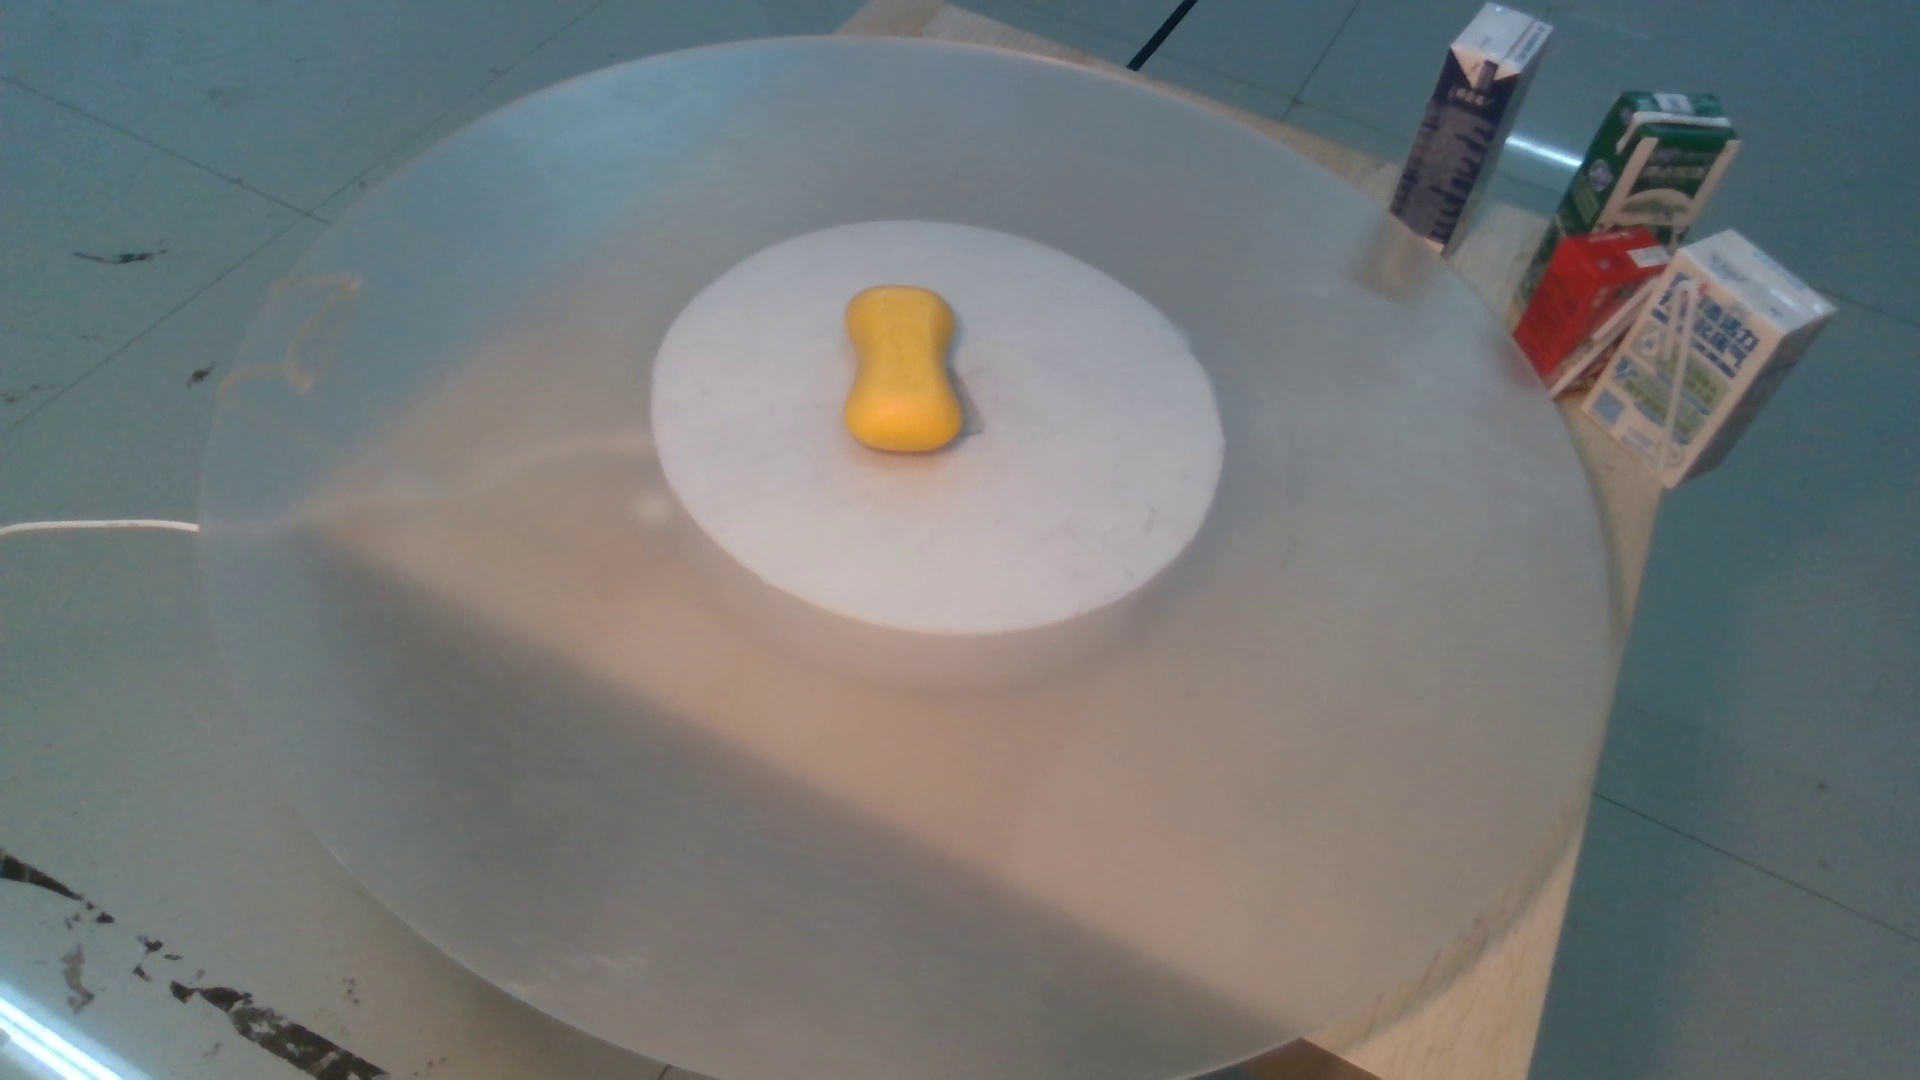CA003_1: (814, 272, 982, 458)
